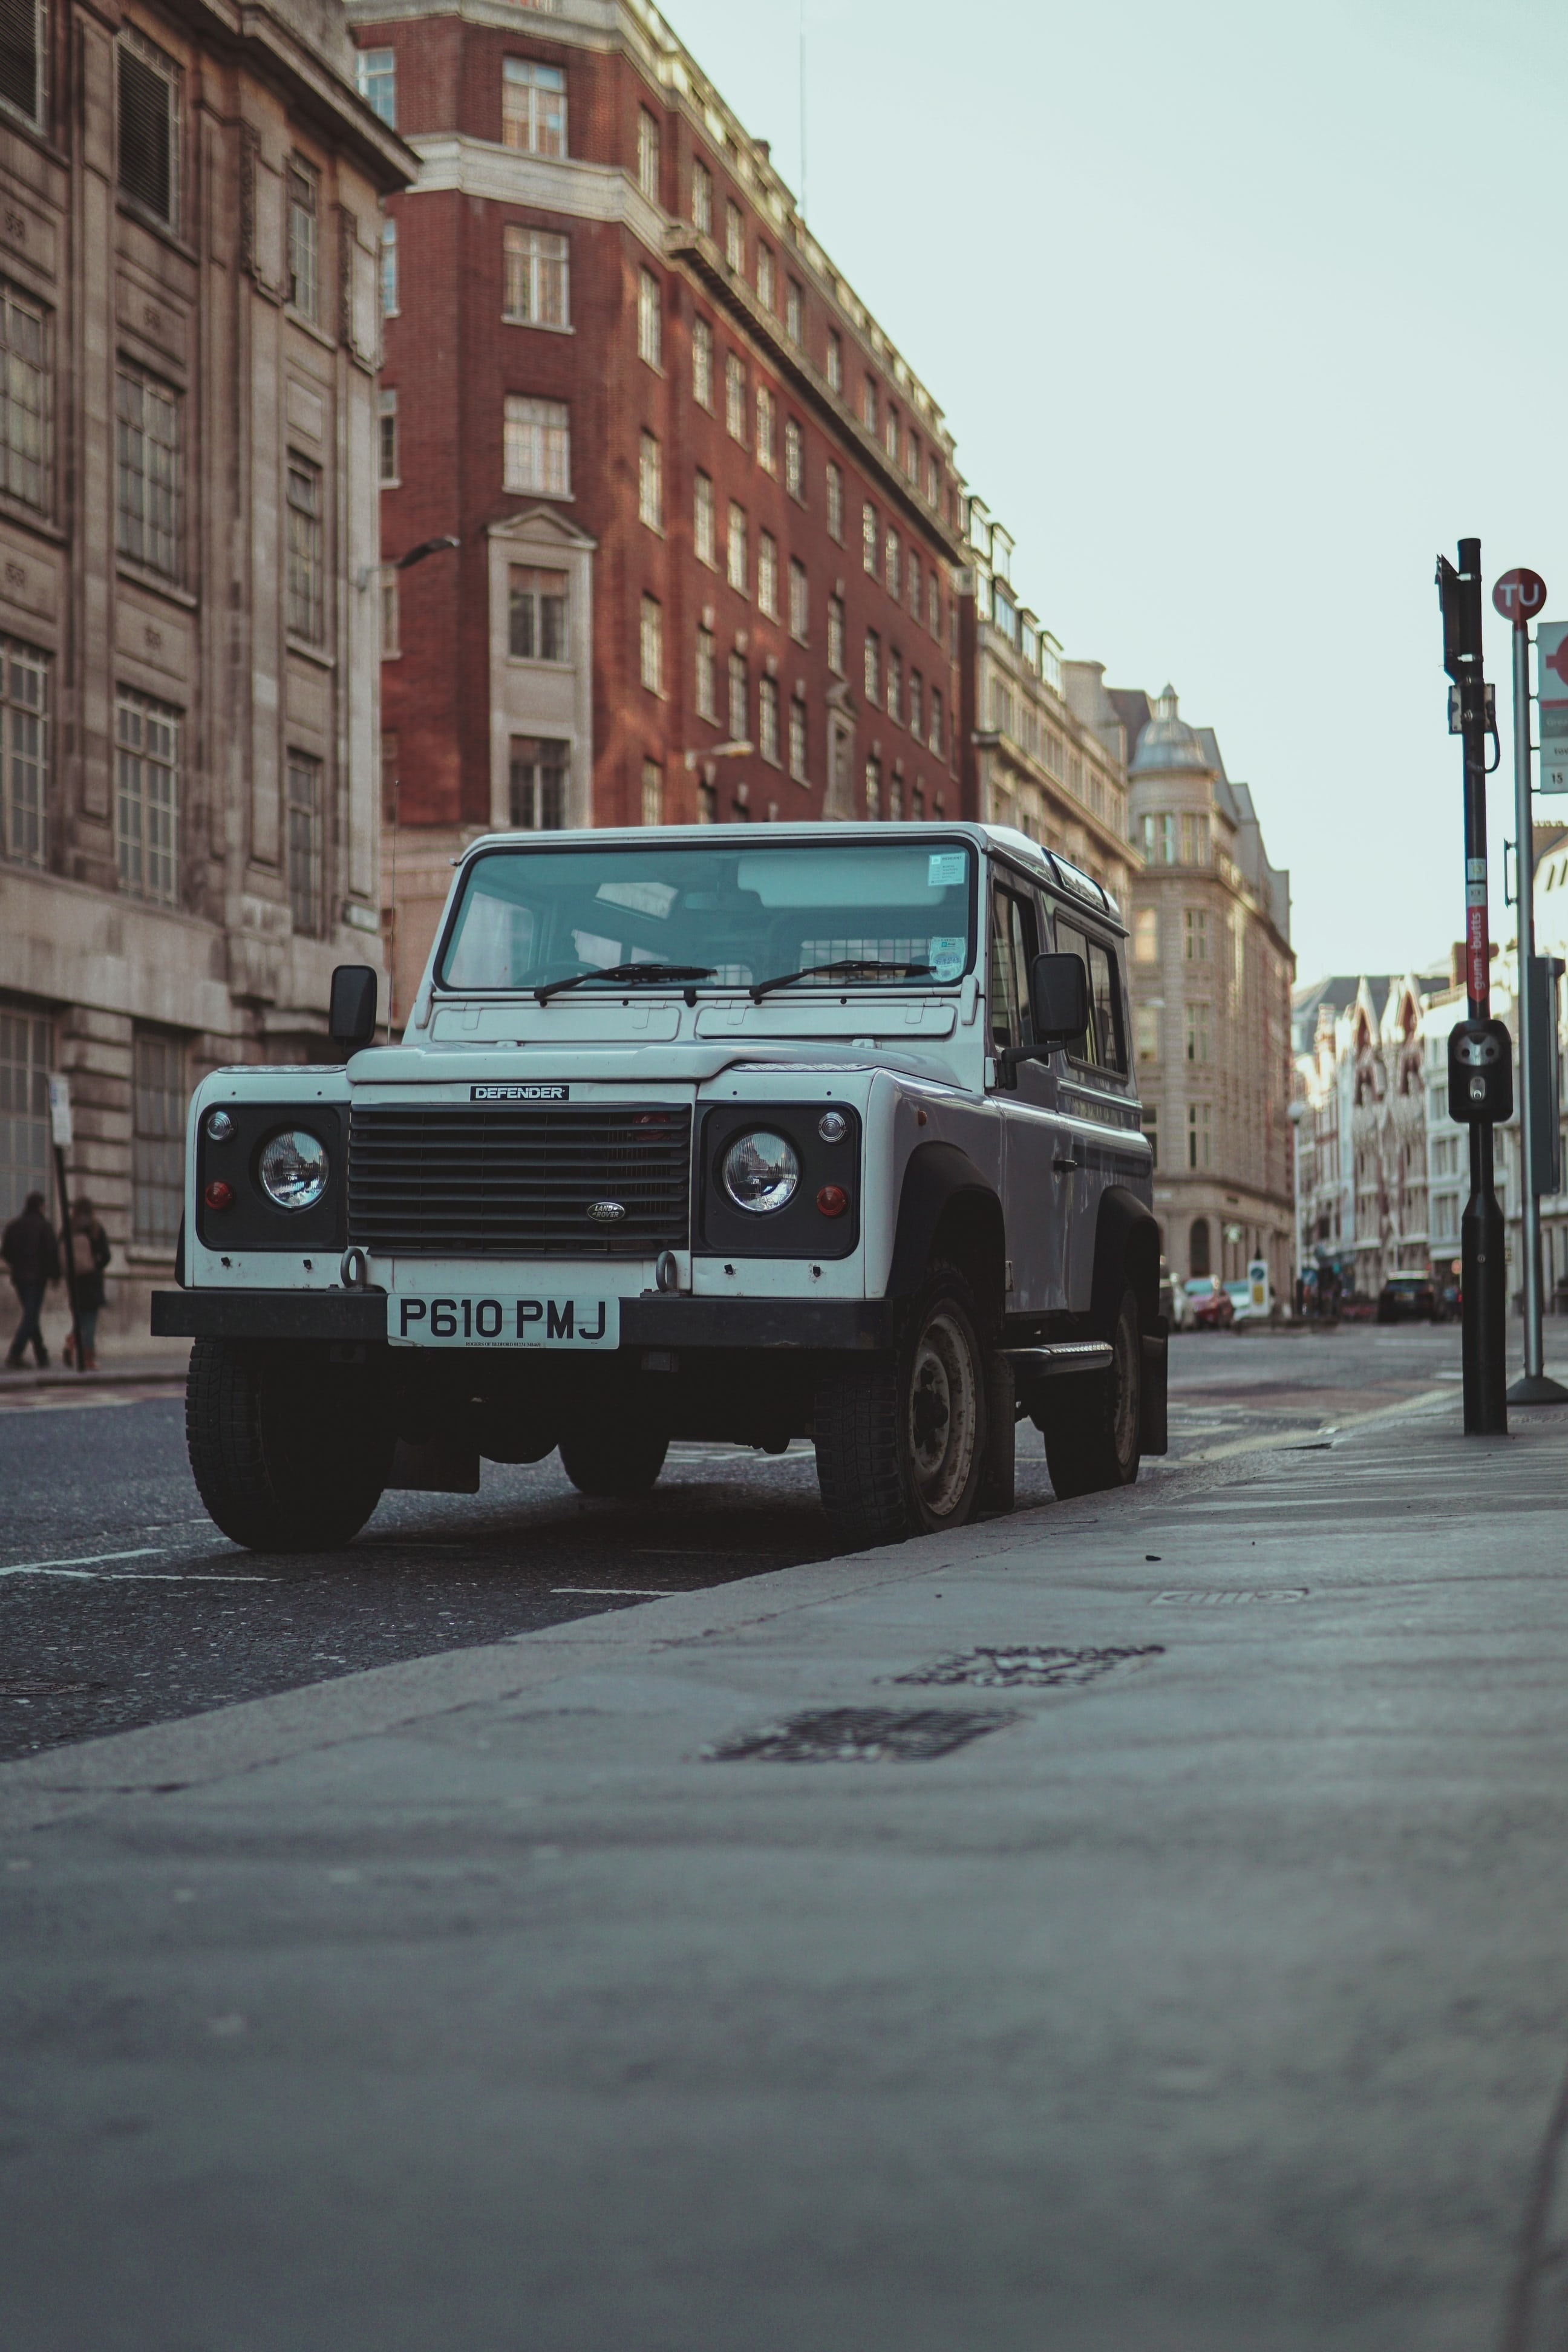plaka: (385, 1293, 621, 1347)
